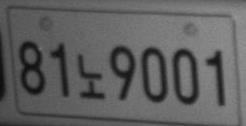0: (171, 47, 200, 105), (140, 46, 168, 103)
1: (204, 49, 231, 106), (49, 42, 75, 97)
8: (18, 40, 46, 95)
9: (110, 44, 136, 101)
노: (76, 53, 105, 99)
